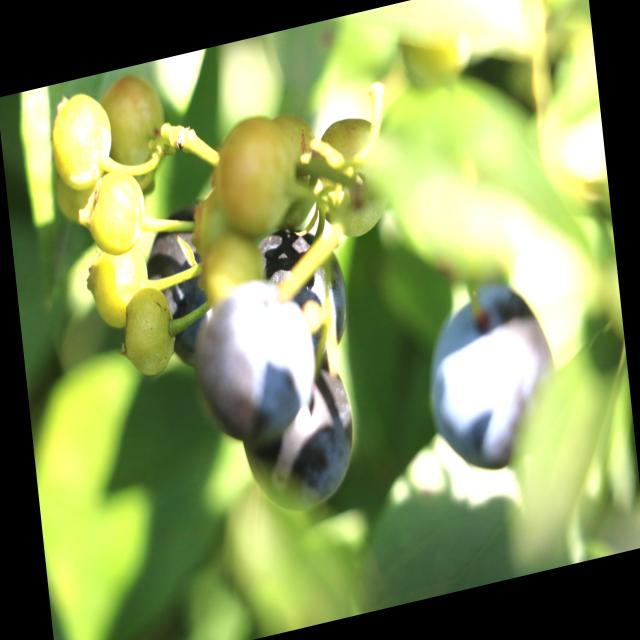blueberry: (418, 270, 560, 477), (196, 272, 318, 449), (234, 358, 362, 526), (255, 214, 354, 358), (141, 200, 216, 378)
blueberry-unripe: (211, 99, 306, 244), (311, 104, 394, 249), (98, 66, 170, 185), (46, 81, 117, 195), (114, 277, 183, 385), (84, 233, 158, 332), (83, 159, 150, 260)
